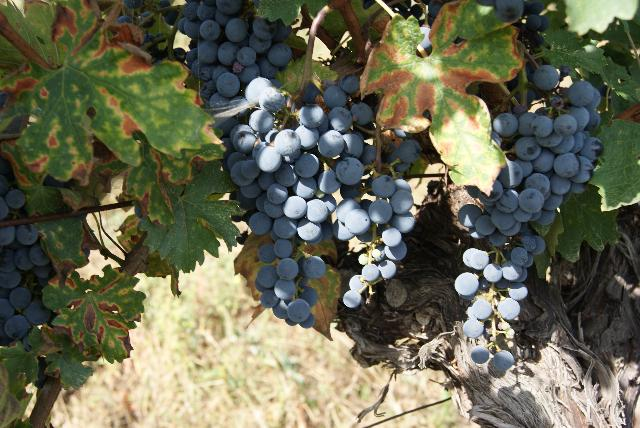grapes: (455, 80, 602, 371), (228, 75, 374, 328), (335, 174, 415, 308), (0, 222, 51, 350), (0, 156, 25, 221)
